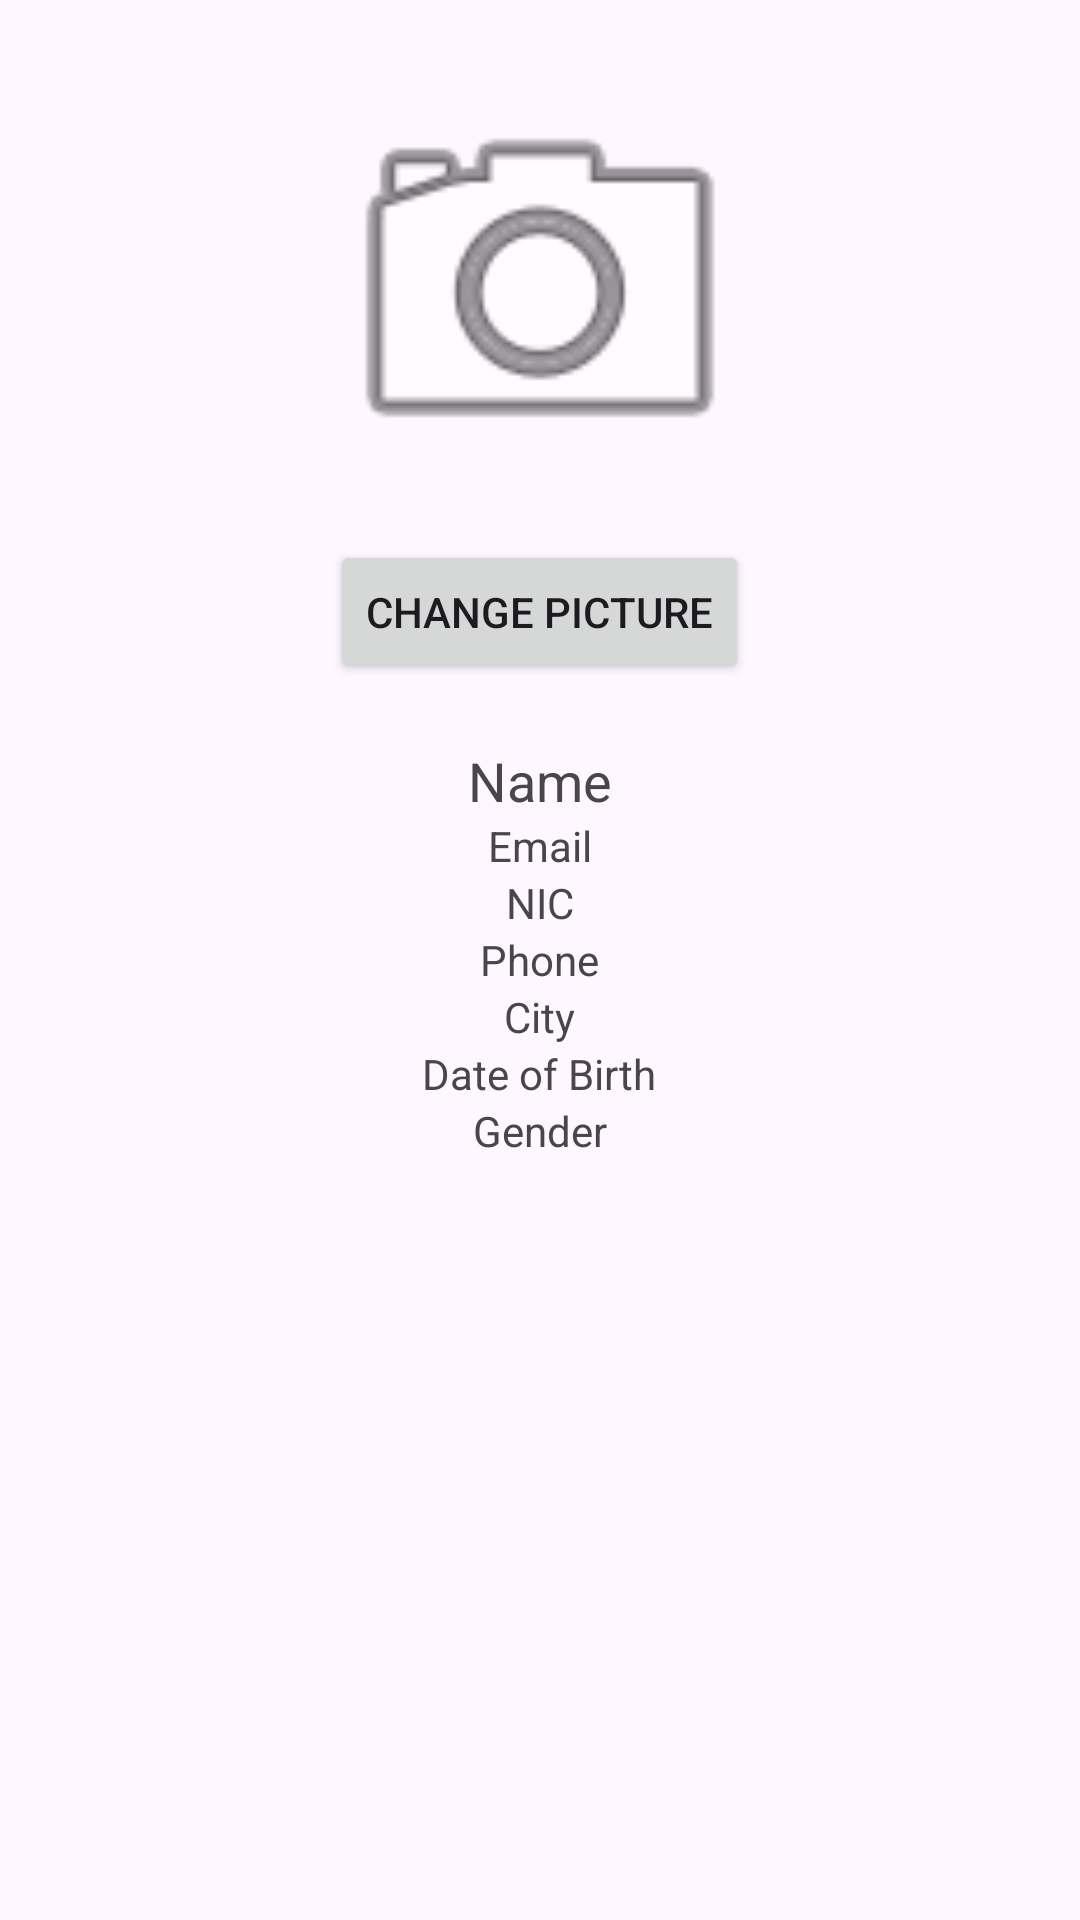

Where icons sit on this 1080 × 1920 app screen, as (x1, y1, x2, y2):
camera: (366, 139, 714, 417)
